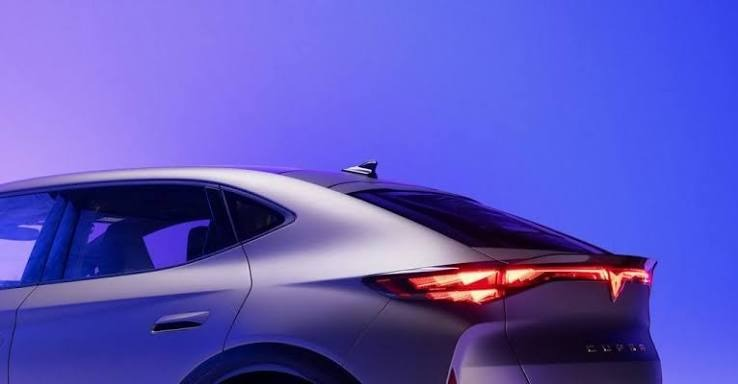car: (1, 165, 680, 384)
